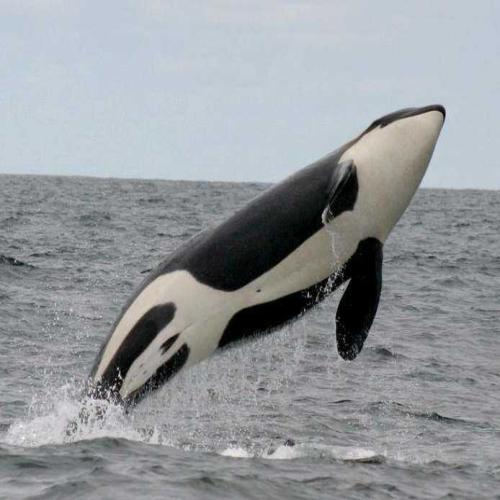killer_whale-endangered: (95, 96, 457, 434)
